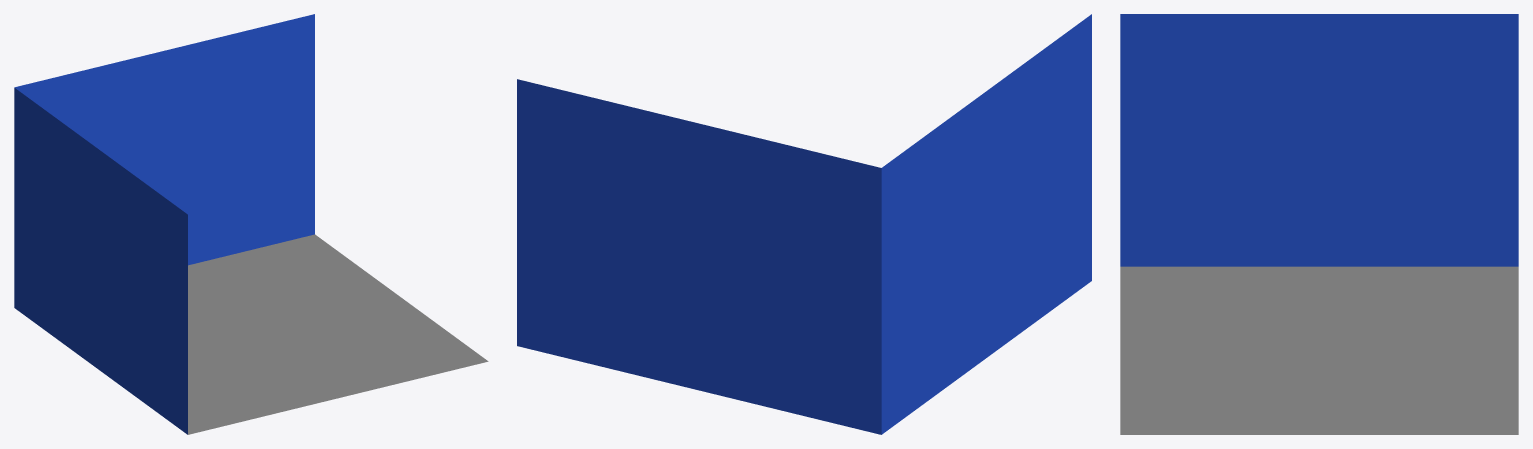
Rendered from SimpleWall.glb.
3 views of the same model, side by side, from view 1: azimuth 30°, elevation 25°; view 2: azimuth 150°, elevation 25°; view 3: azimuth 270°, elevation 25° (orthographic). The views are drawn at different scales.
Visible parts, largest first — view 1: Wall1, Wall2, Floor; view 2: Wall1, Wall2; view 3: Wall2, Floor.
Part boxes in pixels (x1=…): Wall1: x1=14, y1=14, x2=314, y2=265; Wall2: x1=14, y1=88, x2=187, y2=434; Floor: x1=188, y1=234, x2=488, y2=434; Wall1: x1=517, y1=79, x2=881, y2=434; Wall2: x1=881, y1=14, x2=1091, y2=434; Wall2: x1=1120, y1=14, x2=1518, y2=266; Floor: x1=1120, y1=266, x2=1518, y2=434.
Bounding box in the file's own units: 10 × 7 × 10.
